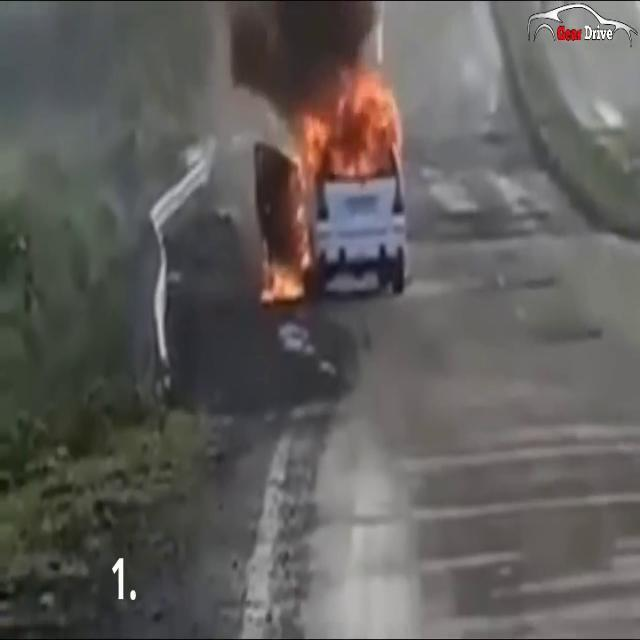Fire: (286, 61, 409, 188), (262, 95, 330, 309)
